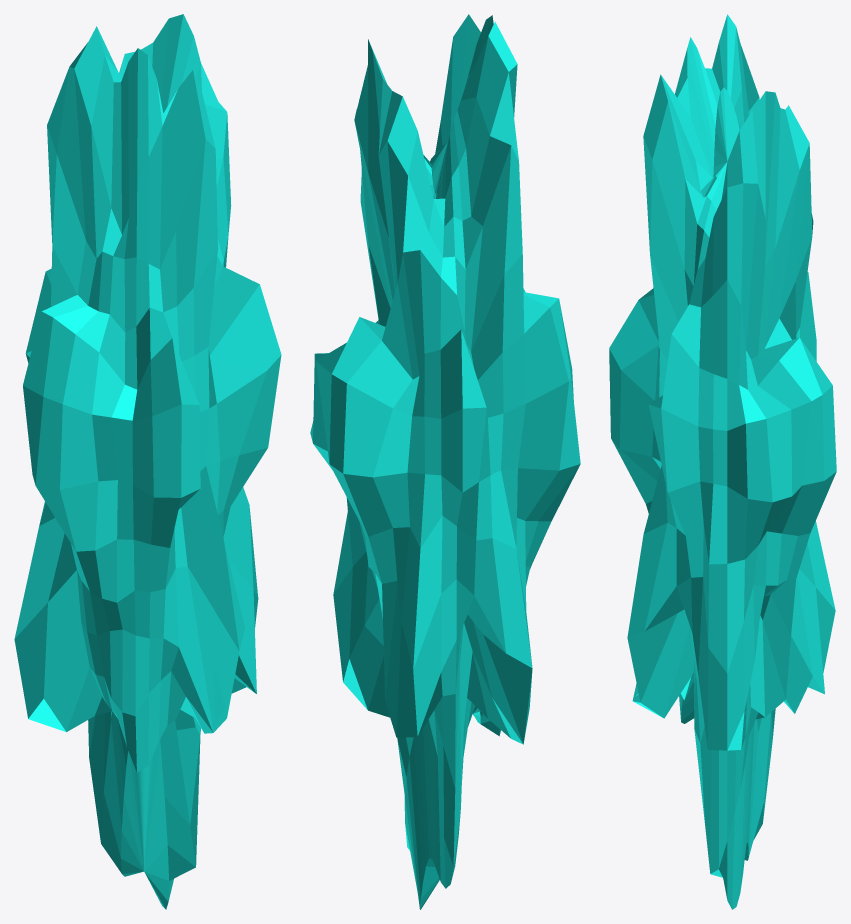
The model's file is cry.glb.
The picture shows the model from 3 angles, left to right: view 1: azimuth 30°, elevation 25°; view 2: azimuth 150°, elevation 25°; view 3: azimuth 270°, elevation 25°; orthographic projection. The views are drawn at different scales.
Parts seen in each view (by area): view 1: Sphere.001; view 2: Sphere.001; view 3: Sphere.001.
Part boxes in pixels (left/top/right/bottom): Sphere.001: left=14, top=14, right=281, bottom=909; Sphere.001: left=310, top=14, right=580, bottom=909; Sphere.001: left=609, top=14, right=836, bottom=909.
Size of the model in its own units: 2.02 by 7.41 by 1.77.
